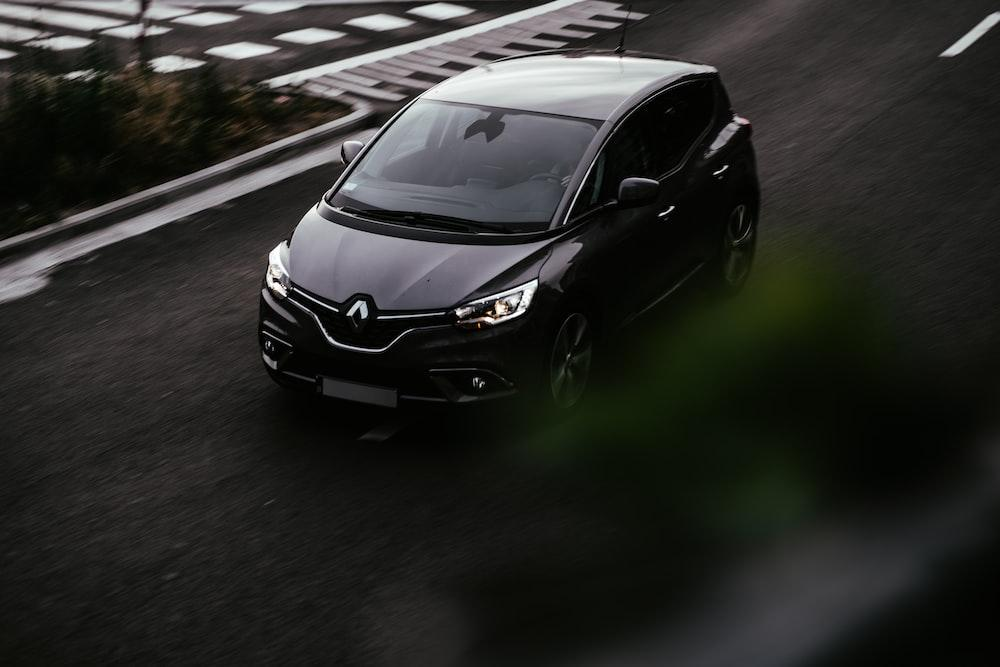Renault: (330, 286, 385, 346)
